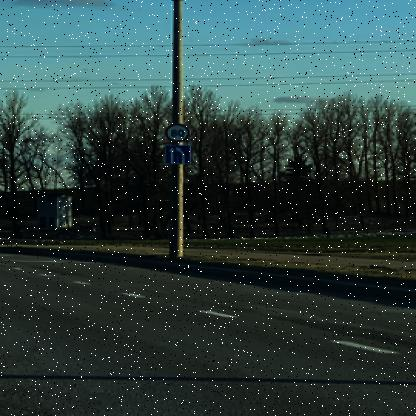speedlimit: (165, 122, 188, 142)
